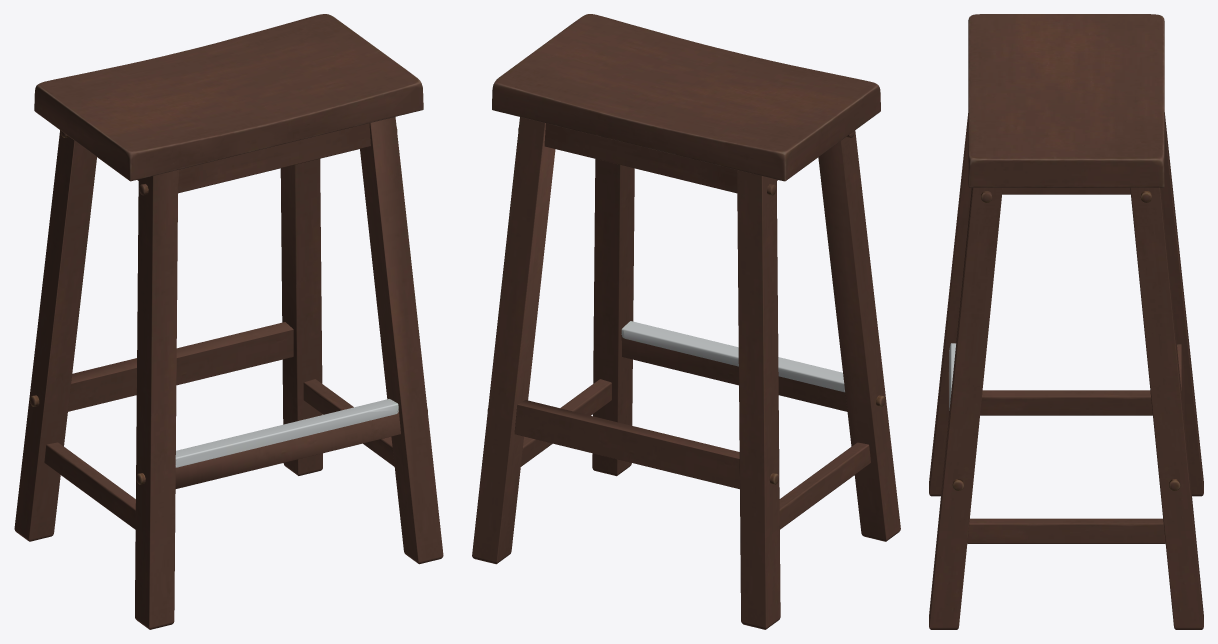
3 views of the same model, side by side, from view 1: azimuth 30°, elevation 25°; view 2: azimuth 150°, elevation 25°; view 3: azimuth 270°, elevation 25° (orthographic).
Parts seen in each view (by area): view 1: RootNode; view 2: RootNode; view 3: RootNode.
Part boxes in pixels (x1=…): RootNode: x1=14, y1=14, x2=443, y2=629; RootNode: x1=472, y1=14, x2=900, y2=629; RootNode: x1=929, y1=14, x2=1203, y2=629.
Size of the model in its own units: 0.4056 by 0.6096 by 0.3221.
1 material, 1 textured.
